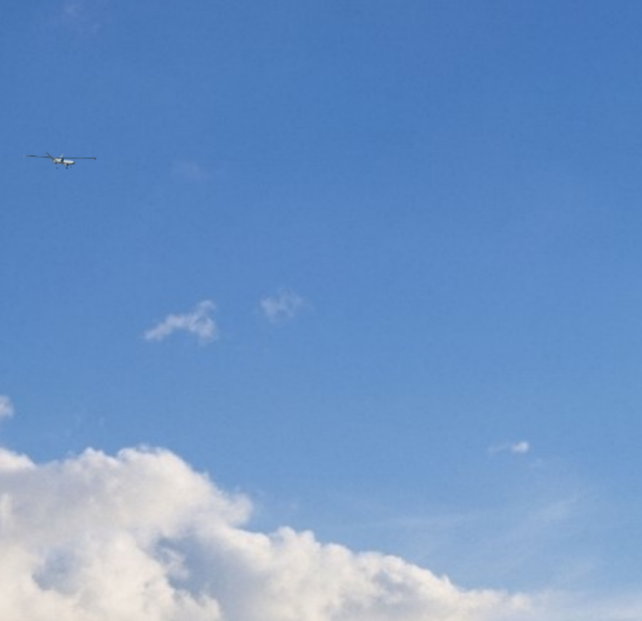military drone: (22, 150, 96, 169)
